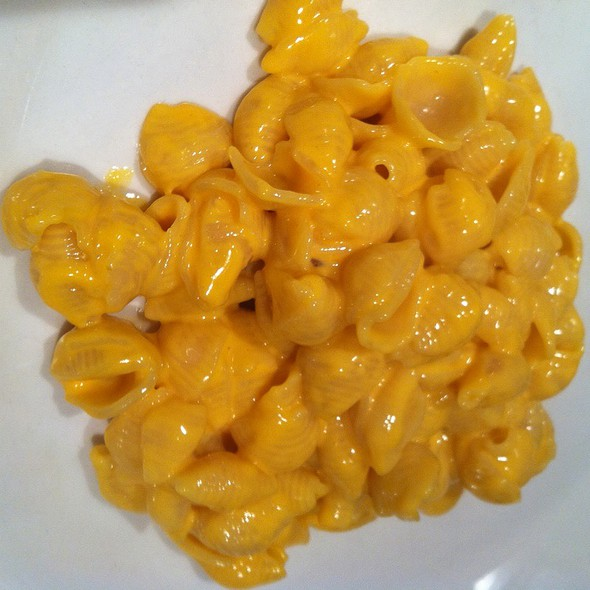macncheese: (7, 5, 590, 589)
